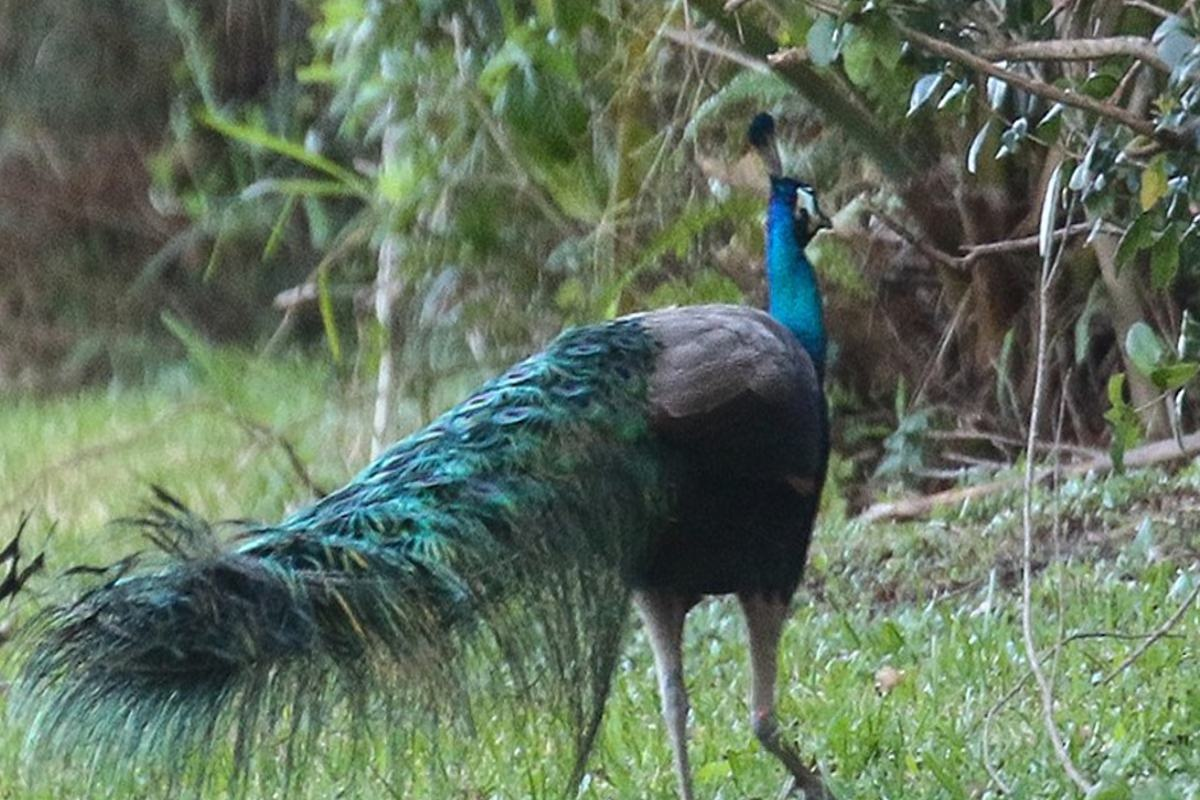peacock: (16, 122, 885, 800)
